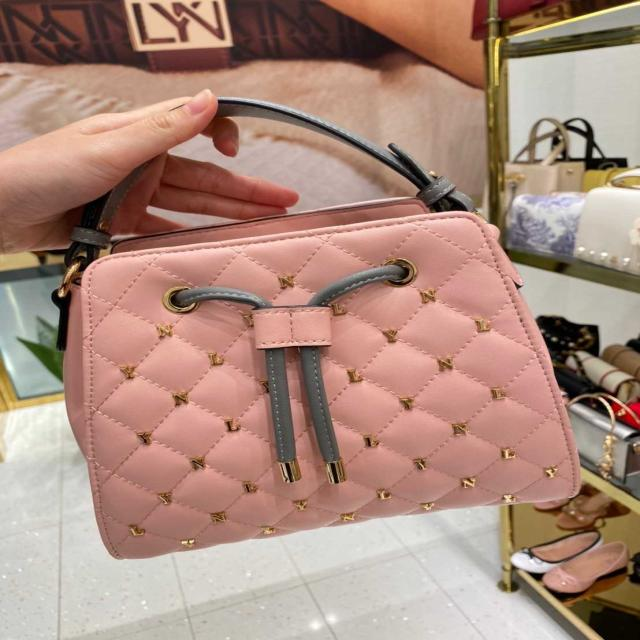Handbag: (50, 182, 583, 574)
